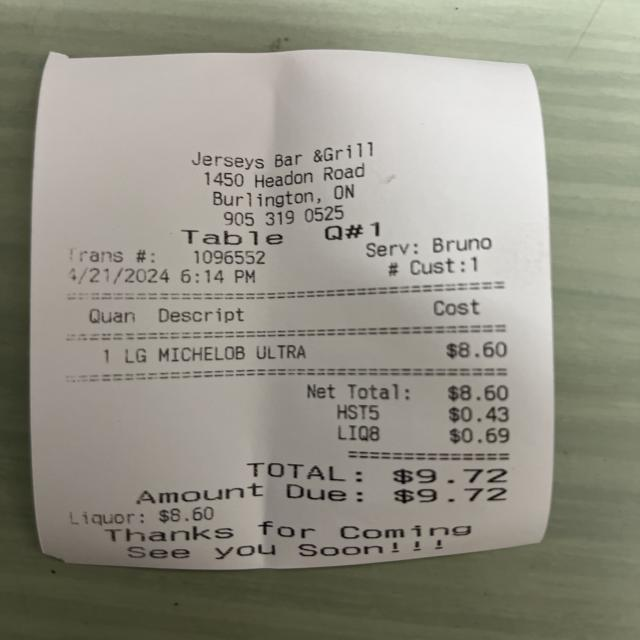item: (116, 337, 518, 370)
store_name: (183, 139, 389, 173)
total_amount: (235, 456, 518, 490)
transaction_date: (59, 262, 179, 293)
